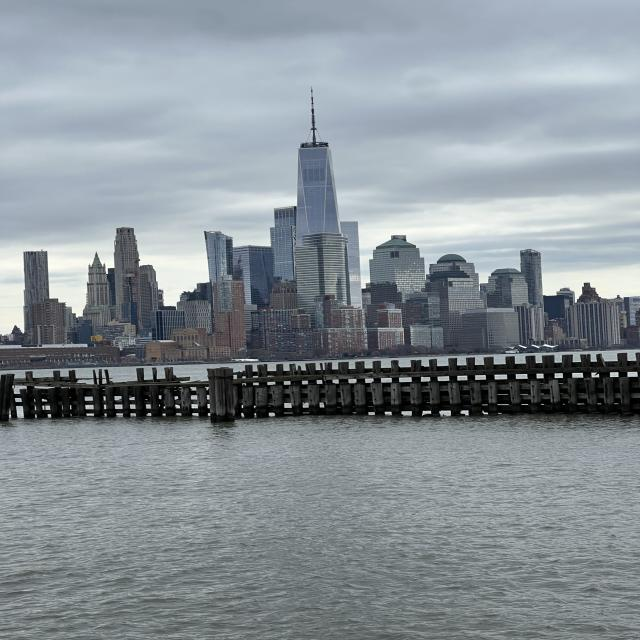WTC: (294, 88, 340, 234)
